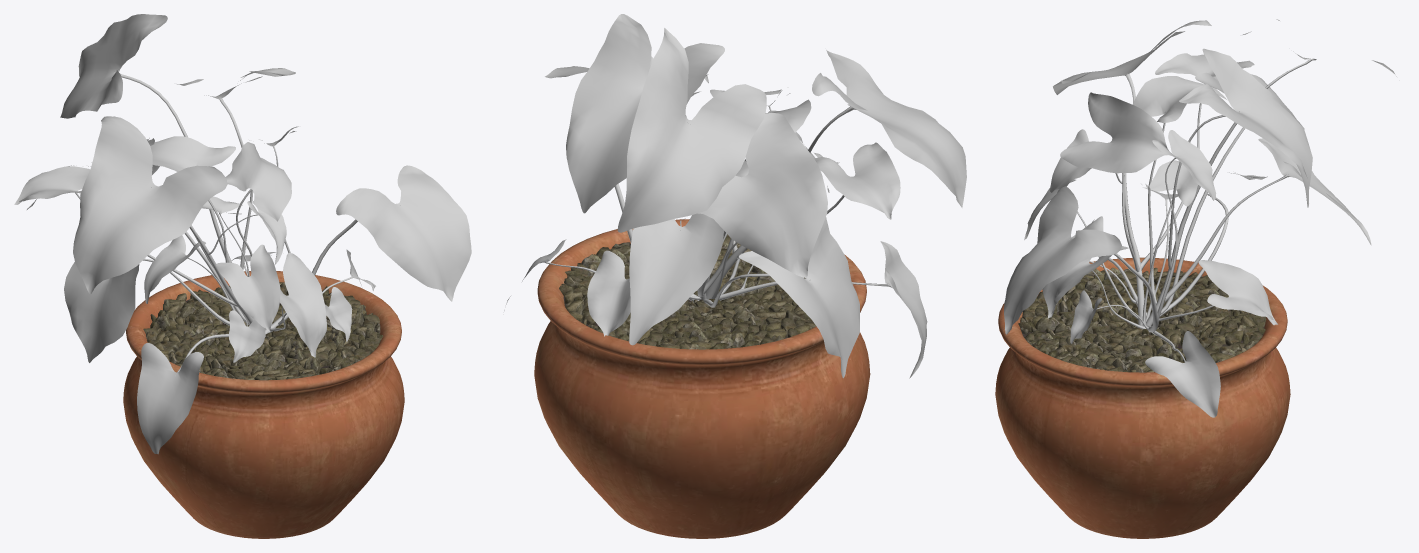
Rendered from potted_plant_02.glb.
3 views of the same model, side by side, from view 1: azimuth 30°, elevation 25°; view 2: azimuth 150°, elevation 25°; view 3: azimuth 270°, elevation 25° (orthographic). The views are drawn at different scales.
Bounding box in the file's own units: 0.7012 × 0.8412 × 0.6574.
Materials: 2 (1 with a texture image).
